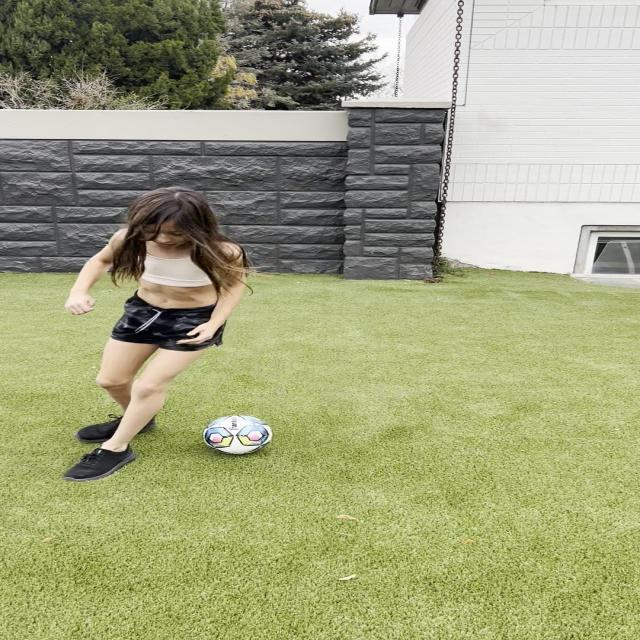Soccer Ball: (202, 415, 272, 454)
